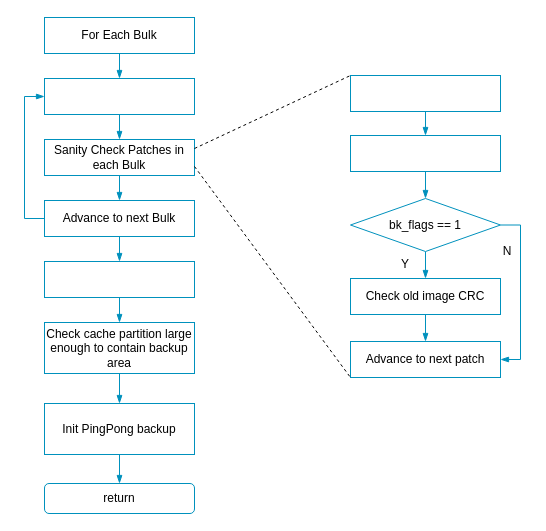
The diagram is 546 pixels wide and 531 high, and some of its shapes have lost their labels. Each missing label, with the box of its shape:
Find PingPong backup area: (44, 260, 194, 298)
For Each Patch: (350, 74, 500, 112)
Init and Read Bulk Header: (44, 78, 194, 114)
Read and Check Patch Header: (350, 134, 500, 172)
